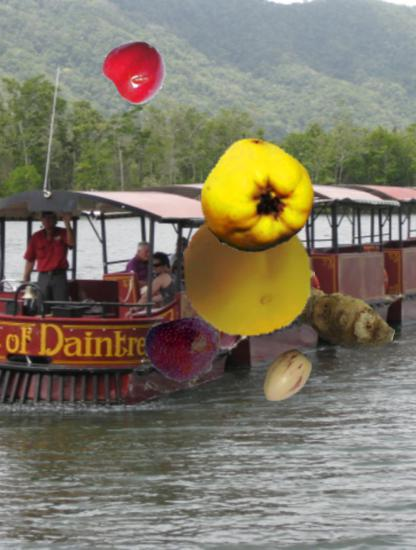Cherry: (102, 38, 167, 103)
Ginger: (296, 271, 396, 371)
Peach: (181, 204, 315, 338)
Pepino: (256, 347, 316, 407)
Quince: (199, 139, 315, 255)
Salak: (146, 313, 220, 387)
